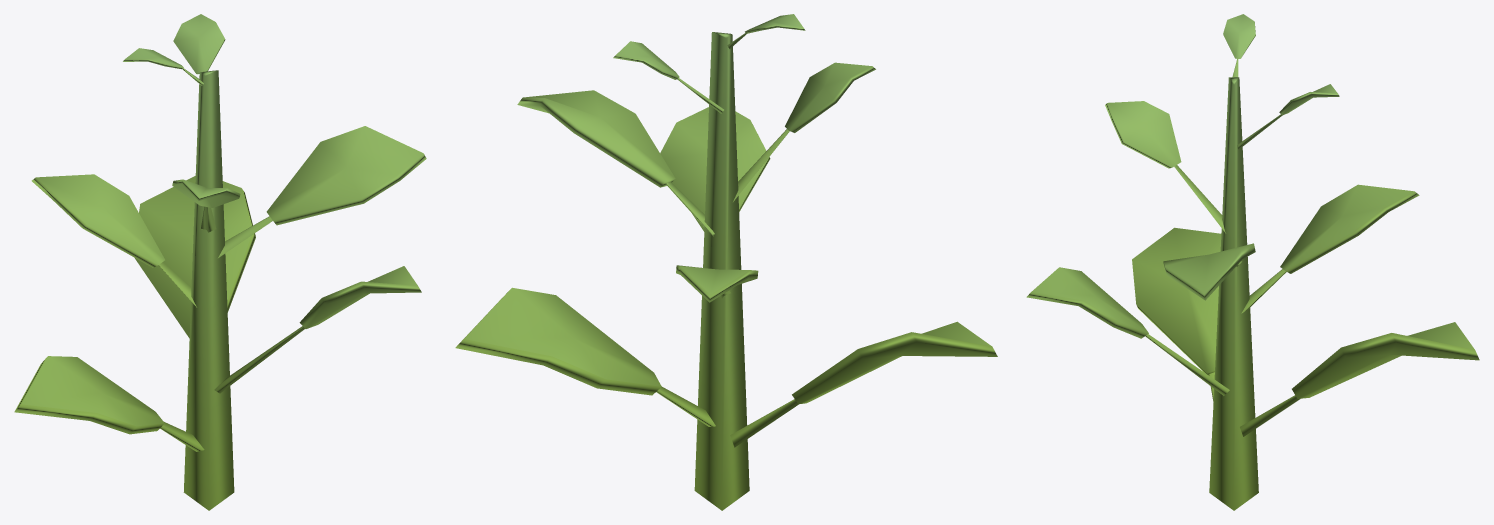
Rendered from Peanut.fbx.
3 views of the same model, side by side, from view 1: azimuth 30°, elevation 25°; view 2: azimuth 150°, elevation 25°; view 3: azimuth 270°, elevation 25° (orthographic). The views are drawn at different scales.
Visible parts, largest first — view 1: leafy_bush_textured; view 2: leafy_bush_textured; view 3: leafy_bush_textured.
Part boxes in pixels (x1,y1,x2,y2): leafy_bush_textured: (14,14,426,510); leafy_bush_textured: (455,14,997,510); leafy_bush_textured: (1026,14,1479,510).
Size of the model in its own units: 0.7882 by 0.8064 by 0.7386.
Materials: 1 (1 with a texture image).
